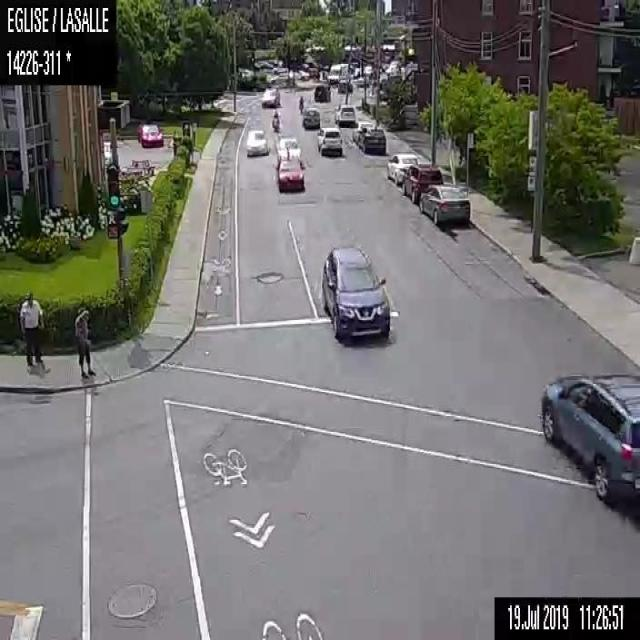pedestrian: (17, 288, 45, 371), (73, 308, 95, 379)
vehicle: (538, 369, 639, 502), (319, 240, 390, 345), (417, 183, 470, 228), (399, 161, 444, 202), (386, 153, 422, 184), (276, 158, 304, 190), (243, 126, 269, 158), (359, 127, 386, 155), (316, 126, 342, 155), (136, 121, 163, 148), (273, 131, 300, 158), (352, 120, 374, 144), (333, 102, 355, 125), (260, 85, 280, 107), (328, 63, 348, 82), (312, 82, 329, 103), (300, 108, 318, 127), (270, 108, 281, 132), (336, 80, 354, 94), (295, 69, 308, 80), (298, 95, 303, 114)
